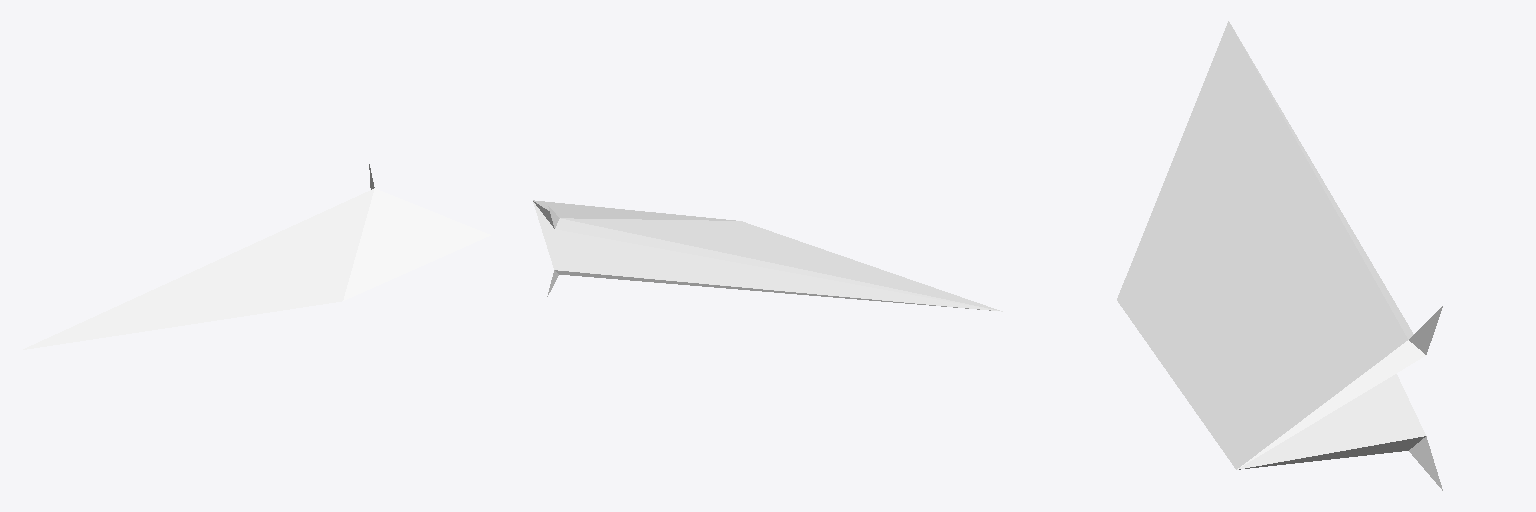
robot.urdf — cow_0.01.obj:
<robot name="cow_0.01.obj">
	<link name="_name">
		<visual>
			<origin rpy="0.0 0.0 0.0" xyz="-445.2511355614668 -688.4929868259242 119.031204" />
			<geometry>
				<mesh filename="cow_0.01.obj" scale="1 1 1" />
			</geometry>
			<material name="texture">
				<color rgba="1.0 1.0 1.0 1.0" />
			</material>
		</visual>
		<collision>
			<origin rpy="0.0 0.0 0.0" xyz="-445.2511355614668 -688.4929868259242 119.031204" />
			<geometry>
				<mesh filename="cow_0.01.obj" scale="1 1 1" />
			</geometry>
		</collision>
		<inertial>
			<mass value="1.0" />
			<inertia ixx="1.0" ixy="0.0" ixz="0.0" iyy="1.0" iyz="0.0" izz="1.0" />
		</inertial>
	</link>
</robot>

--- Render facts (derived) ---
3 views of the same robot in one strip: view 1: azimuth 30°, elevation 25°; view 2: azimuth 150°, elevation 25°; view 3: azimuth 270°, elevation 25° (orthographic).
Model cow_0.01.obj with 1 links and 0 joints (none), rooted at _name, posed every joint at zero.
Visible links, largest first — view 1: _name; view 2: _name; view 3: _name.
Boxes of the visible links, box(x1,y1,x2,y2) form: _name: box(23, 164, 490, 349); _name: box(533, 200, 1002, 311); _name: box(1117, 21, 1442, 490).
Size in the robot's own frame: 1347 by 417 by 260 metres.
Meshes: 1 distinct files referenced, 1 mesh visuals loaded (1 OBJ).